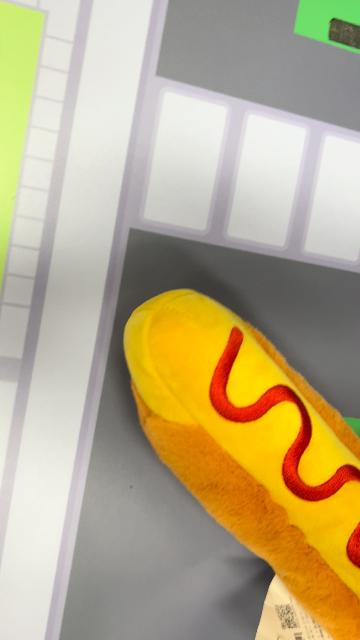hotdog: (123, 286, 359, 638)
